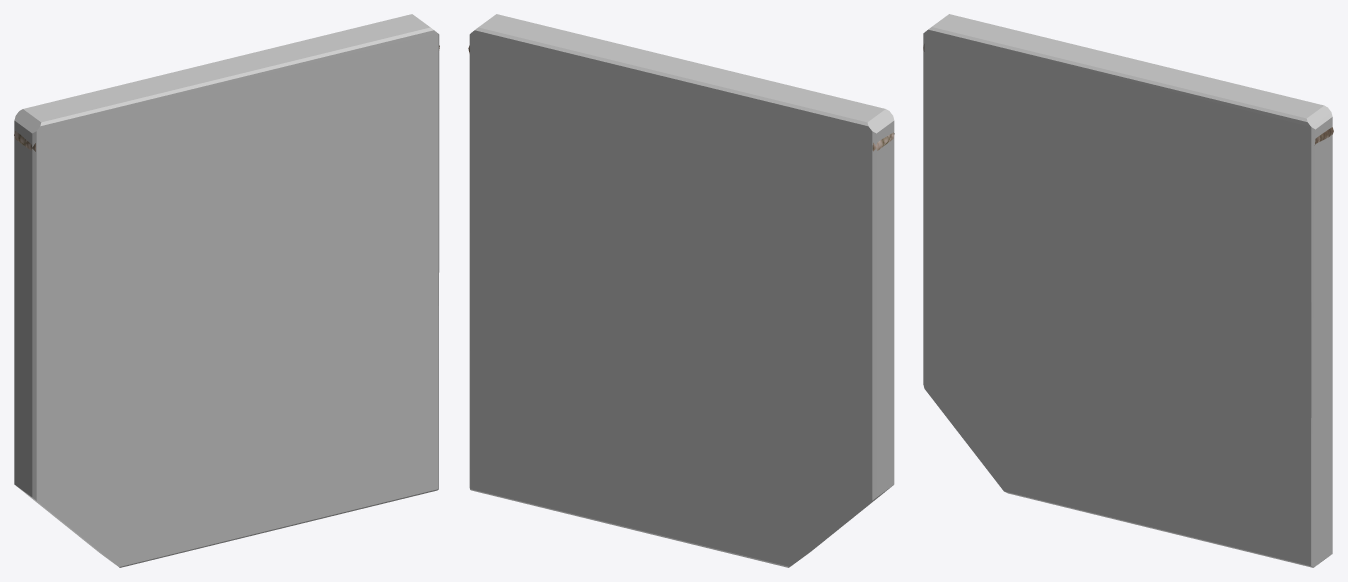
Rendered from SM_Counter_Separator.fbx.
The picture shows the model from 3 angles, left to right: view 1: azimuth 30°, elevation 25°; view 2: azimuth 150°, elevation 25°; view 3: azimuth 330°, elevation 25°; orthographic projection. The views are drawn at different scales.
Parts seen in each view (by area): view 1: SM_Counter_Separator_ConvexHulls; view 2: SM_Counter_Separator_ConvexHulls; view 3: SM_Counter_Separator_ConvexHulls.
Boxes of the visible parts, x1,y1,x2,y2 form: SM_Counter_Separator_ConvexHulls: [14, 14, 439, 567]; SM_Counter_Separator_ConvexHulls: [469, 14, 894, 567]; SM_Counter_Separator_ConvexHulls: [923, 14, 1332, 567].
Bounding box in the file's own units: 90.31 × 8.04 × 97.97.
